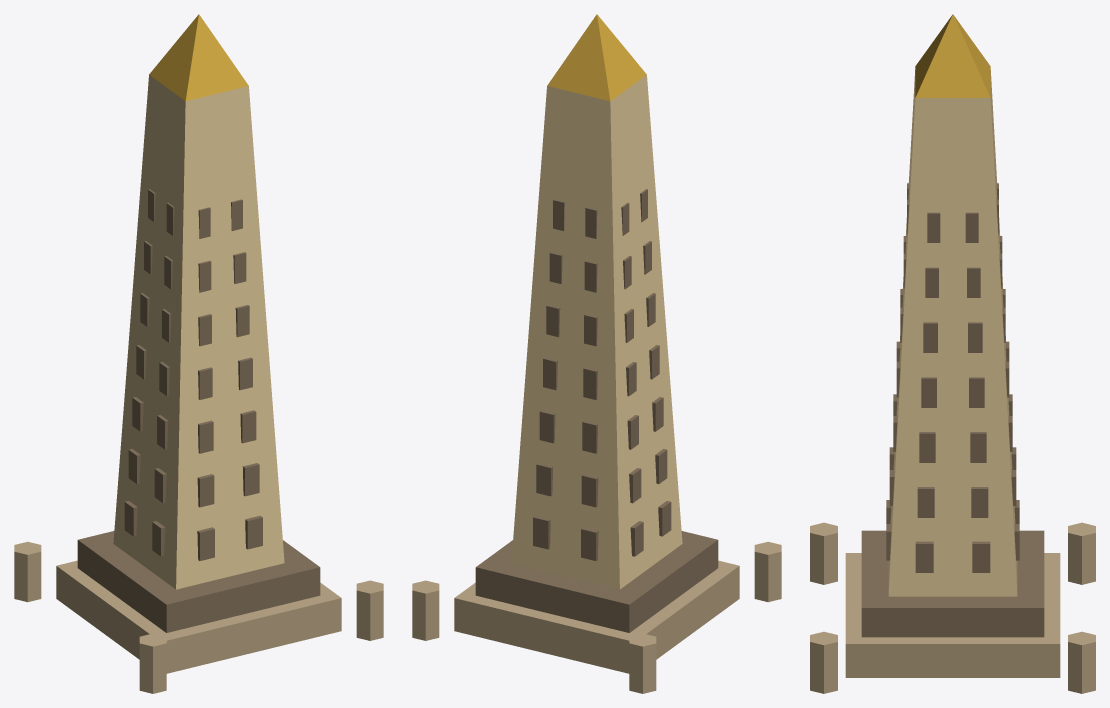
The model's file is obelisk_tall.fbx.
3 views of the same model, side by side, from view 1: azimuth 30°, elevation 25°; view 2: azimuth 150°, elevation 25°; view 3: azimuth 270°, elevation 25° (orthographic). The views are drawn at different scales.
Parts seen in each view (by area): view 1: obelisk_tall; view 2: obelisk_tall; view 3: obelisk_tall.
Boxes of the visible parts, x1,y1,x2,y2 form: obelisk_tall: (14,14,383,693); obelisk_tall: (412,14,781,693); obelisk_tall: (810,14,1095,693).
Bounding box in the file's own units: 5.4 × 12.7 × 5.32.
1 material, 1 textured.
